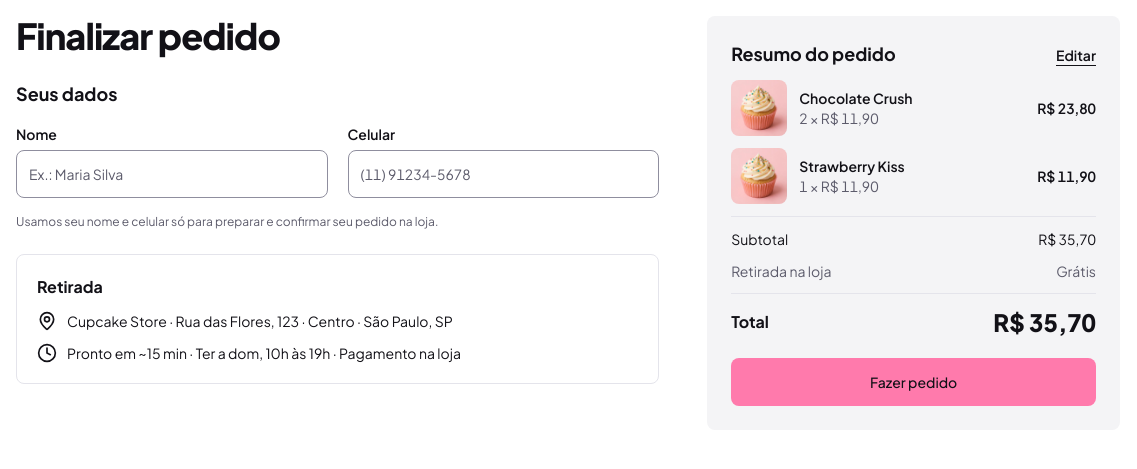
Test: US-15 place the order › shows the rate-limit message without a review action
Expected: the heading "Resumo do pedido" is shown, [731,40,896,68]
In the field labelled "Nome": (172, 174) [16,150,328,198], type "Ana Souza"
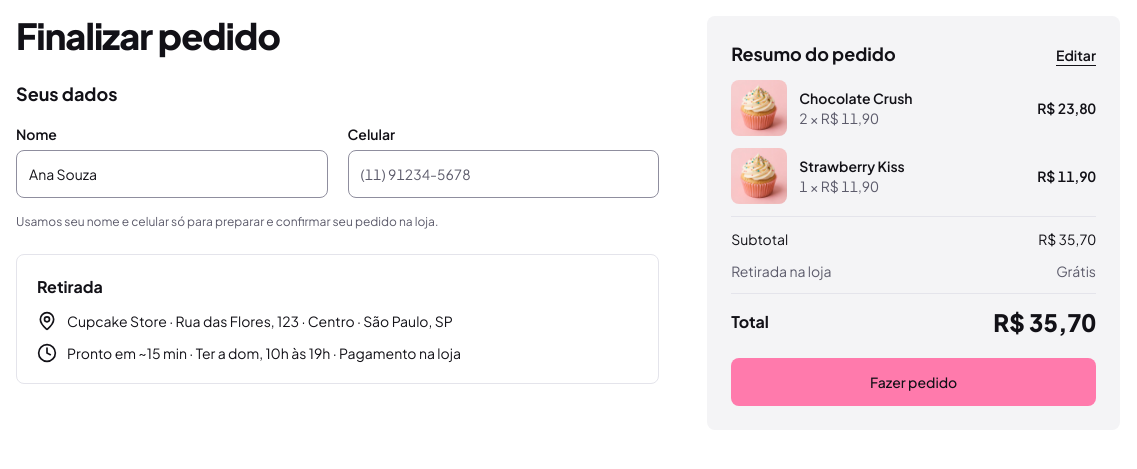
In the field labelled "Celular": (503, 174) [348,150,659,198], type "11912345678"
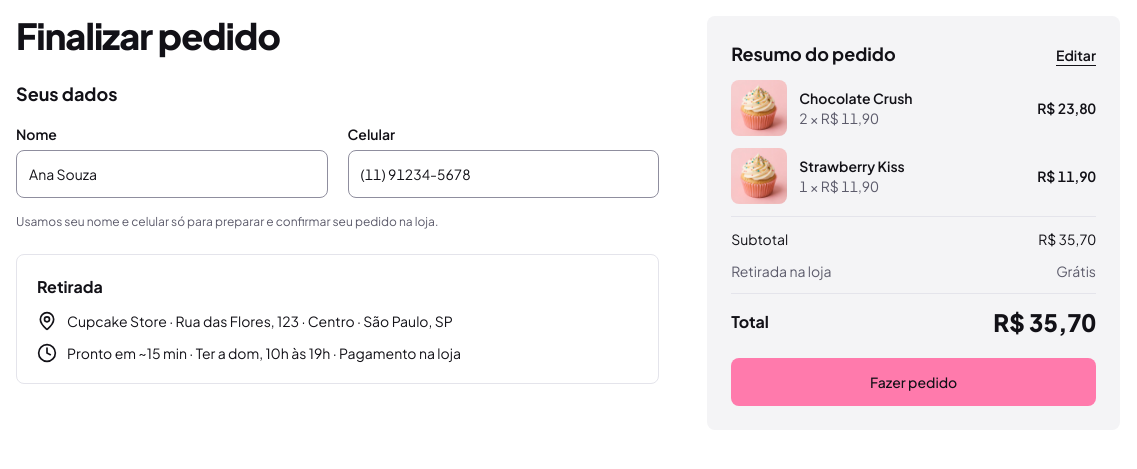
Click the button "Fazer pedido": click(914, 382) [731,358,1096,406]
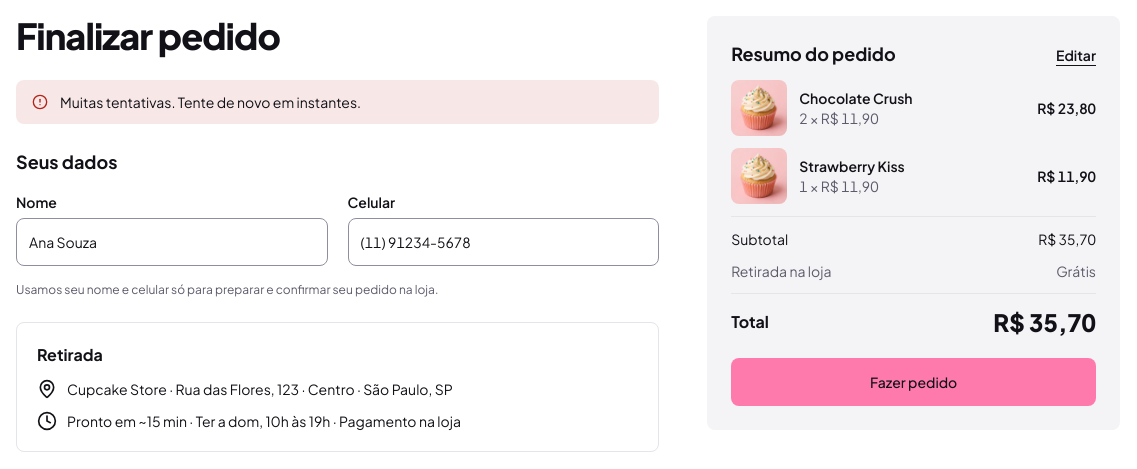
Now the message reads "Muitas tentativas. Tente de novo em instantes.", box [60,93,361,111]
